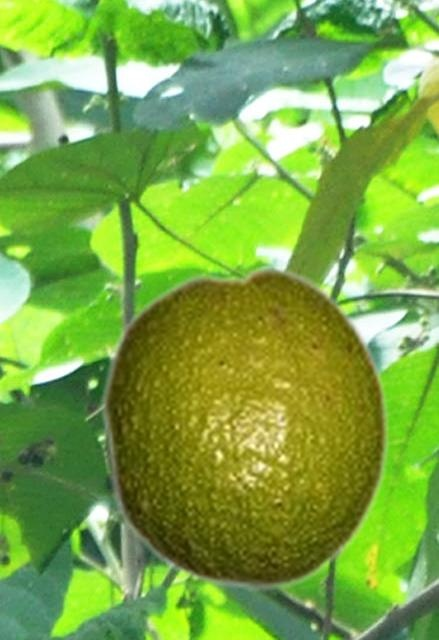avocado: (99, 263, 391, 593)
